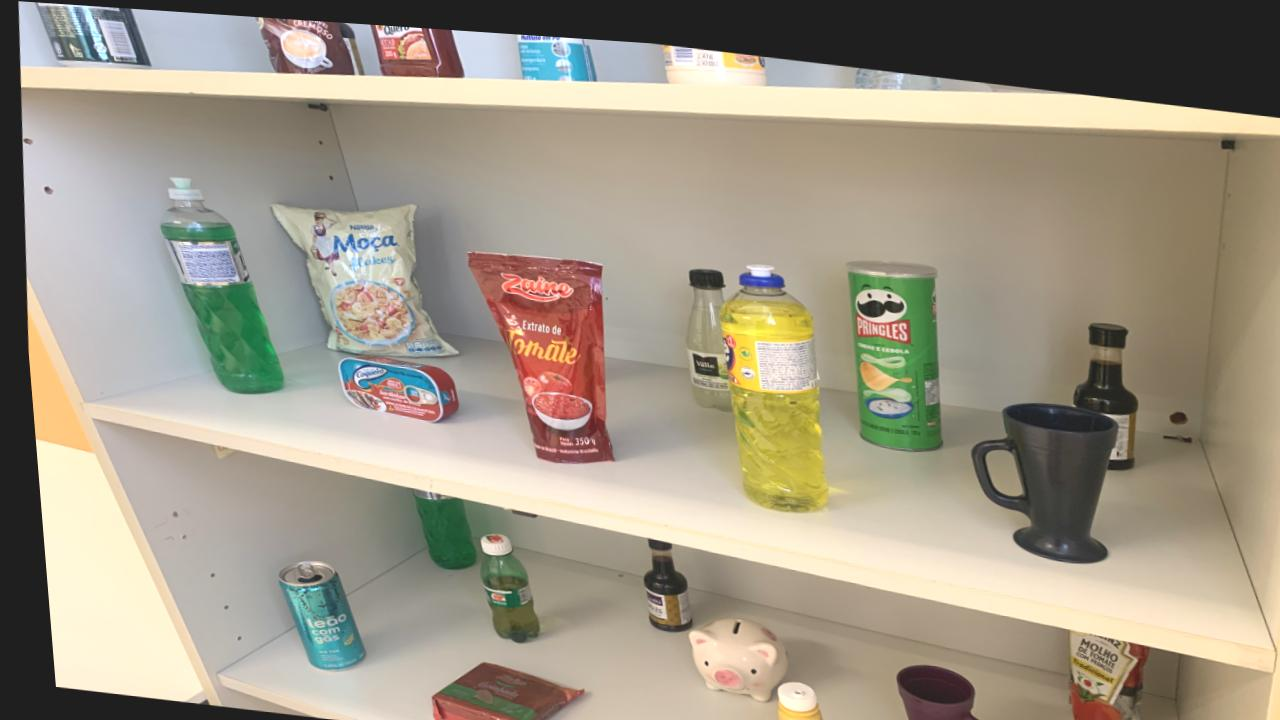Cleaner-Cleanup_Items: (516, 27, 594, 74)
Coffee-Pantry_Items: (256, 13, 354, 71)
Detergent-Cleanup_Items: (156, 175, 278, 391), (715, 255, 819, 502), (404, 484, 467, 563)
English_Sauce-Pantry_Items: (1068, 308, 1131, 455), (635, 531, 681, 623)
Flakes-Snacks: (268, 199, 452, 353)
Guarana-Drinks: (470, 527, 528, 637)
Guarana_Can-Drinks: (36, 2, 149, 67)
Guava-Snacks: (419, 657, 571, 720)
Ketchup-Pantry_Items: (371, 19, 462, 72)
Mayonnaise-Pantry_Items: (664, 36, 764, 76)
Mustard-Pantry_Items: (757, 671, 814, 720)
Pig_Safe-Miscellaneous: (678, 608, 776, 692)
Pringles-Snacks: (842, 248, 936, 439)
Soda-Drinks: (680, 259, 726, 402)
Tea-Drinks: (270, 557, 353, 667)
Tomato_Sauce-Pantry_Items: (464, 245, 606, 456), (1057, 616, 1139, 720)
Tuna_Can-Pantry_Items: (332, 351, 453, 417)
Water_Bottle-Drinks: (854, 56, 940, 78)
